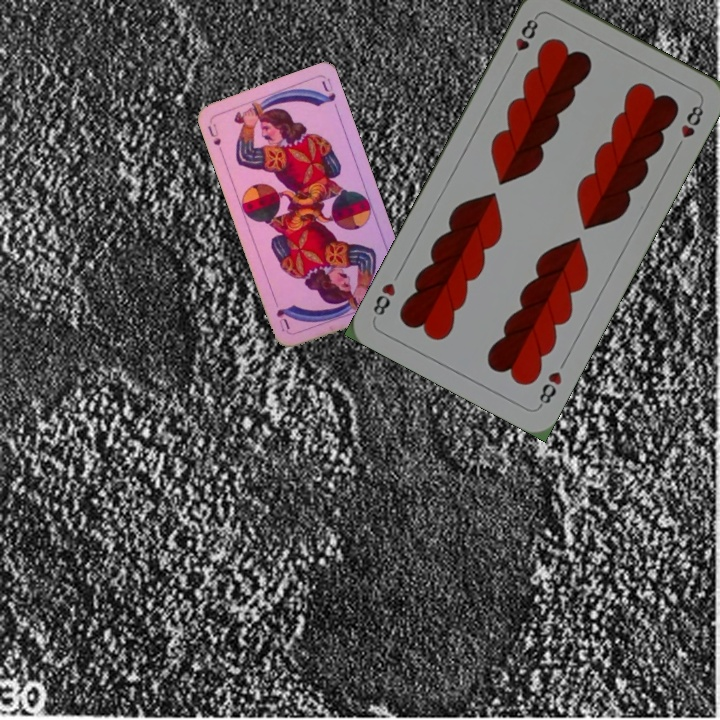H8: (507, 12, 541, 66), (534, 367, 565, 410)
SU: (204, 119, 226, 157)
